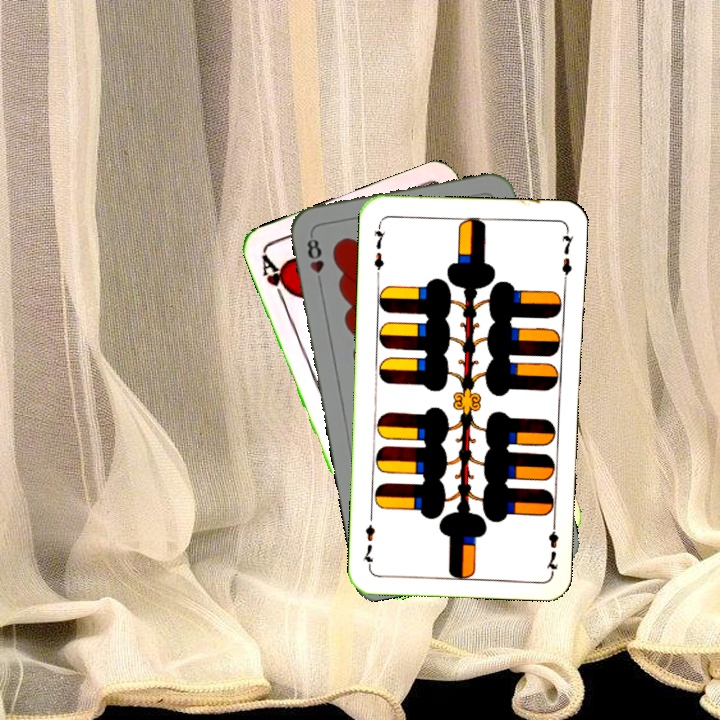E7: (369, 219, 388, 279), (542, 515, 561, 574)
H8: (303, 230, 327, 289)
HA: (257, 249, 296, 306)
